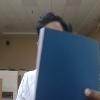notebook: (33, 26, 99, 99)
